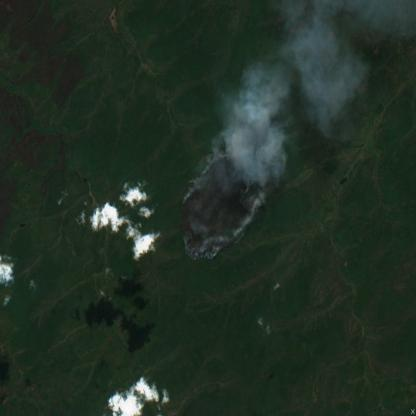fire: (177, 149, 259, 267)
